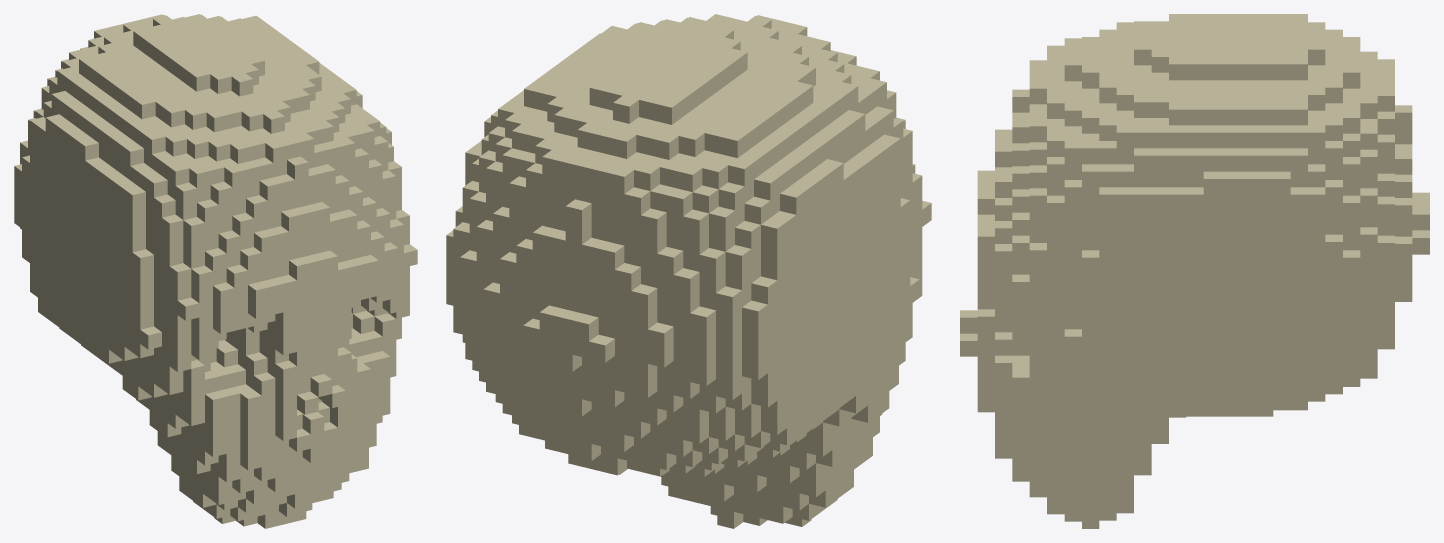
File: Skull.fbx
3 views of the same model, side by side, from view 1: azimuth 30°, elevation 25°; view 2: azimuth 150°, elevation 25°; view 3: azimuth 270°, elevation 25° (orthographic). The views are drawn at different scales.
Visible parts, largest first — view 1: Skull; view 2: Skull; view 3: Skull.
Part boxes in pixels (x1=…): Skull: x1=14, y1=14, x2=417, y2=528; Skull: x1=446, y1=14, x2=931, y2=528; Skull: x1=960, y1=14, x2=1429, y2=528.
Bounding box in the file's own units: 0.114 × 0.1621 × 0.1741.
